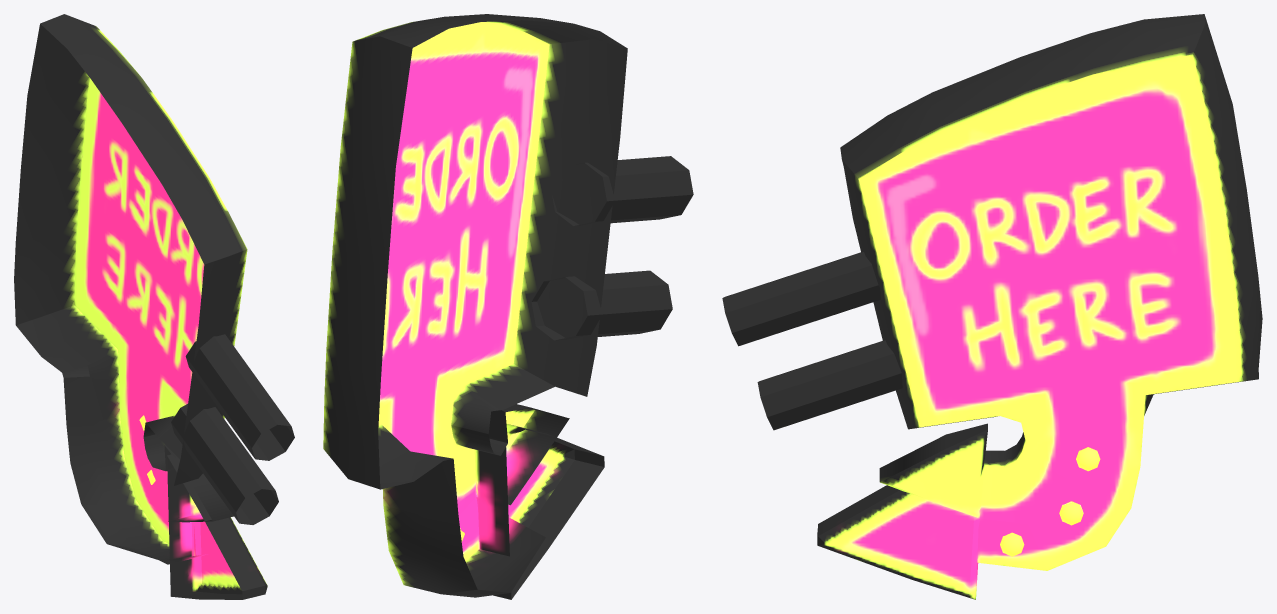
Rendered from order here.glb.
3 views of the same model, side by side, from view 1: azimuth 30°, elevation 25°; view 2: azimuth 150°, elevation 25°; view 3: azimuth 270°, elevation 25° (orthographic). The views are drawn at different scales.
Parts seen in each view (by area): view 1: polySurface11, polySurface10, pCylinder1, pCylinder2; view 2: polySurface11, polySurface10, pCylinder2, pCylinder1; view 3: polySurface11, polySurface10, pCylinder1, pCylinder2.
Boxes of the visible parts, bbox=[...] form: polySurface11: bbox=[14, 14, 247, 564]; polySurface10: bbox=[167, 454, 267, 599]; pCylinder1: bbox=[185, 334, 294, 460]; pCylinder2: bbox=[171, 404, 278, 524]; polySurface11: bbox=[323, 14, 627, 597]; polySurface10: bbox=[474, 423, 604, 599]; pCylinder2: bbox=[531, 270, 672, 340]; pCylinder1: bbox=[552, 156, 693, 225]; polySurface11: bbox=[840, 14, 1262, 570]; polySurface10: bbox=[817, 485, 980, 599]; pCylinder1: bbox=[722, 252, 880, 346]; pCylinder2: bbox=[757, 340, 902, 430].
Size of the model in its own units: 0.2825 by 1.9 by 1.66.
2 materials, 2 textured.
